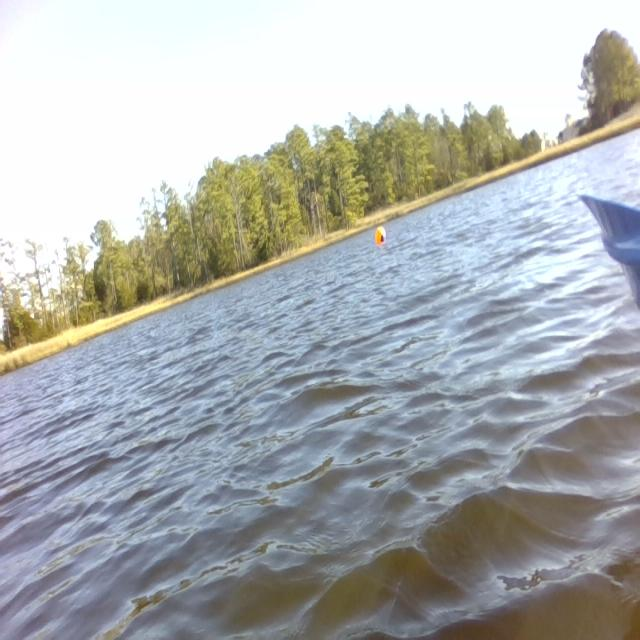Buoy: (369, 220, 390, 250)
